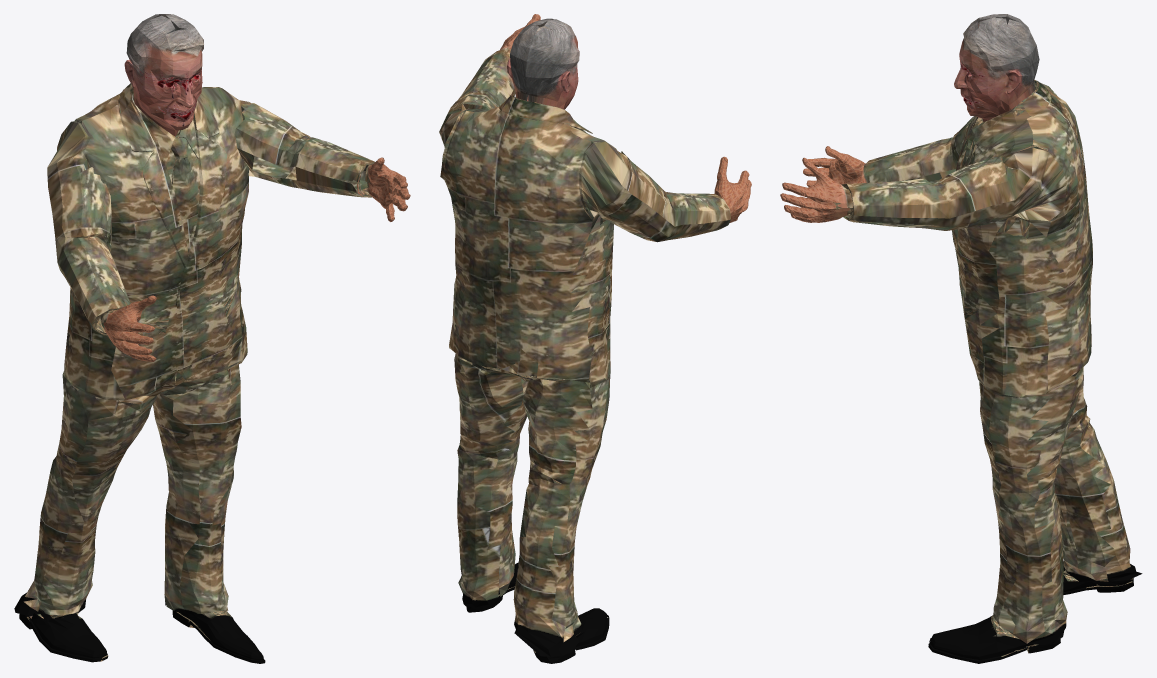
The model's file is zombie_000047.obj.
The picture shows the model from 3 angles, left to right: view 1: azimuth 30°, elevation 25°; view 2: azimuth 150°, elevation 25°; view 3: azimuth 270°, elevation 25°; orthographic projection. The views are drawn at different scales.
Parts seen in each view (by area): view 1: Suit_coat_orig_9___De, objGeo_Hea_orig_9___D; view 2: Suit_coat_orig_9___De, objGeo_Hea_orig_9___D; view 3: Suit_coat_orig_9___De, objGeo_Hea_orig_9___D.
Part boxes in pixels (box(x1,y1,x2,y2)): Suit_coat_orig_9___De: box(14, 83, 410, 663); objGeo_Hea_orig_9___D: box(124, 14, 203, 136); Suit_coat_orig_9___De: box(439, 14, 751, 663); objGeo_Hea_orig_9___D: box(507, 18, 579, 109); Suit_coat_orig_9___De: box(780, 80, 1142, 663); objGeo_Hea_orig_9___D: box(954, 14, 1039, 122).
Size of the model in its own units: 0.8671 by 1.89 by 1.02.
